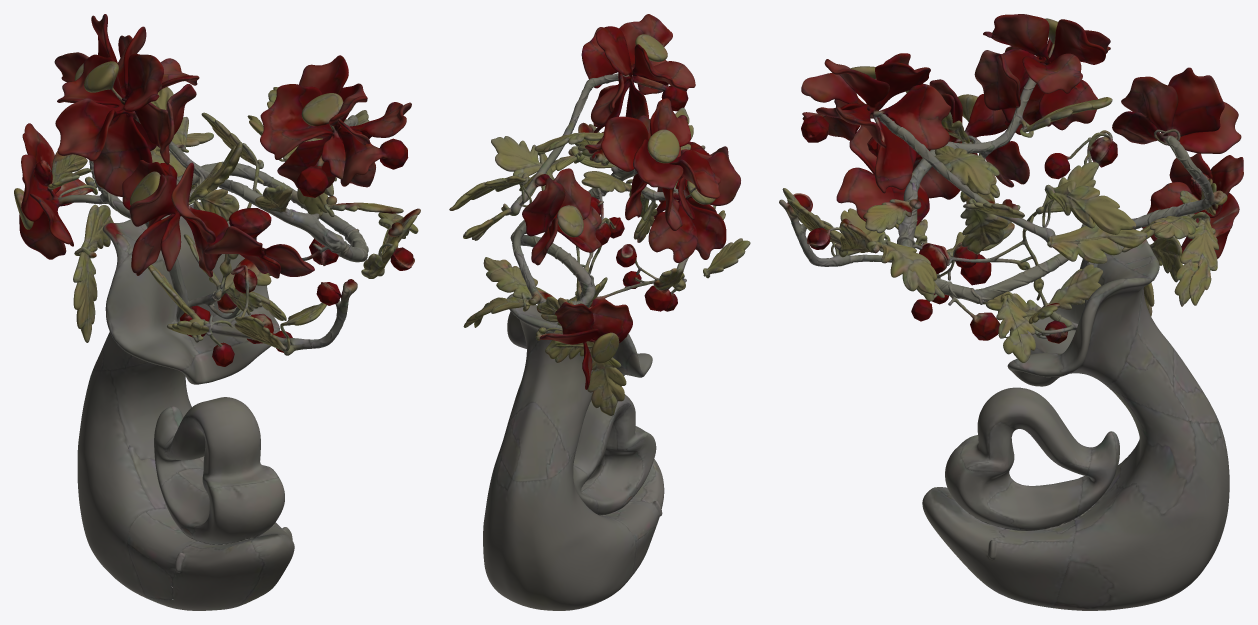
The model's file is flower-metal-sculpture.glb.
3 renders of one model, left to right at view 1: azimuth 30°, elevation 25°; view 2: azimuth 150°, elevation 25°; view 3: azimuth 270°, elevation 25°, orthographic. The views are drawn at different scales.
Visible parts, largest first — view 1: tripo_node_d467bcfb-e88e-4479-8cf7-046dac9aa74f; view 2: tripo_node_d467bcfb-e88e-4479-8cf7-046dac9aa74f; view 3: tripo_node_d467bcfb-e88e-4479-8cf7-046dac9aa74f.
Boxes of the visible parts, left/top/right/bottom form: tripo_node_d467bcfb-e88e-4479-8cf7-046dac9aa74f: left=14, top=14, right=420, bottom=610; tripo_node_d467bcfb-e88e-4479-8cf7-046dac9aa74f: left=449, top=14, right=750, bottom=610; tripo_node_d467bcfb-e88e-4479-8cf7-046dac9aa74f: left=779, top=14, right=1243, bottom=610.
Size of the model in its own units: 0.5157 by 0.9803 by 0.738.
Materials: 1 (1 with a texture image).
